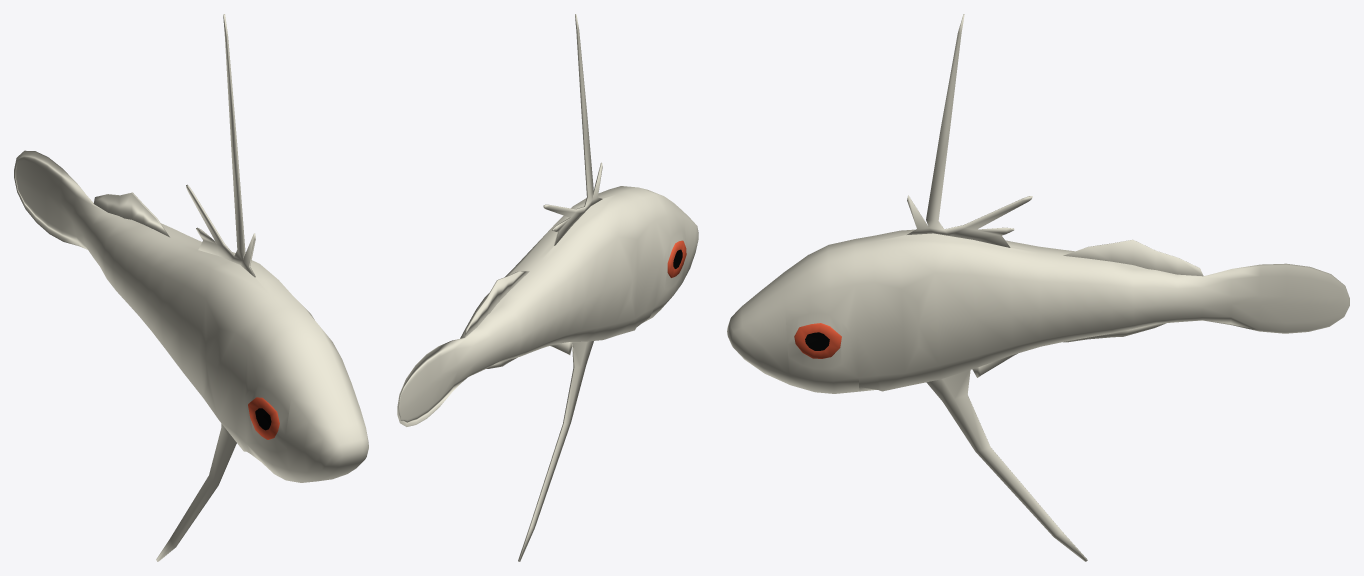
The model's file is Larva_Mero_Finalizada.fbx.
The picture shows the model from 3 angles, left to right: view 1: azimuth 30°, elevation 25°; view 2: azimuth 150°, elevation 25°; view 3: azimuth 270°, elevation 25°; orthographic projection. The views are drawn at different scales.
Parts seen in each view (by area): view 1: Corpo, Barbatana, Olho; view 2: Corpo, Barbatana, Olho; view 3: Corpo, Barbatana, Olho.
Boxes of the visible parts, bbox=[...] form: Corpo: bbox=[14, 150, 368, 482]; Barbatana: bbox=[93, 14, 255, 561]; Olho: bbox=[248, 397, 279, 439]; Corpo: bbox=[397, 186, 698, 426]; Barbatana: bbox=[465, 14, 602, 561]; Olho: bbox=[667, 240, 686, 277]; Corpo: bbox=[727, 229, 1349, 393]; Barbatana: bbox=[906, 14, 1203, 561]; Olho: bbox=[794, 323, 841, 358].
Bounding box in the file's own units: 57.75 × 379 × 391.
